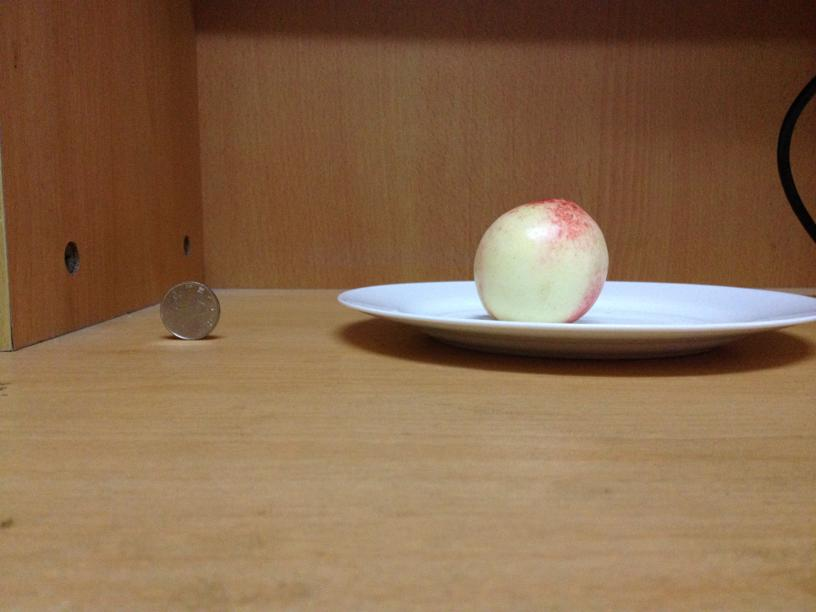coin: (158, 280, 220, 339)
peach: (474, 196, 607, 321)
